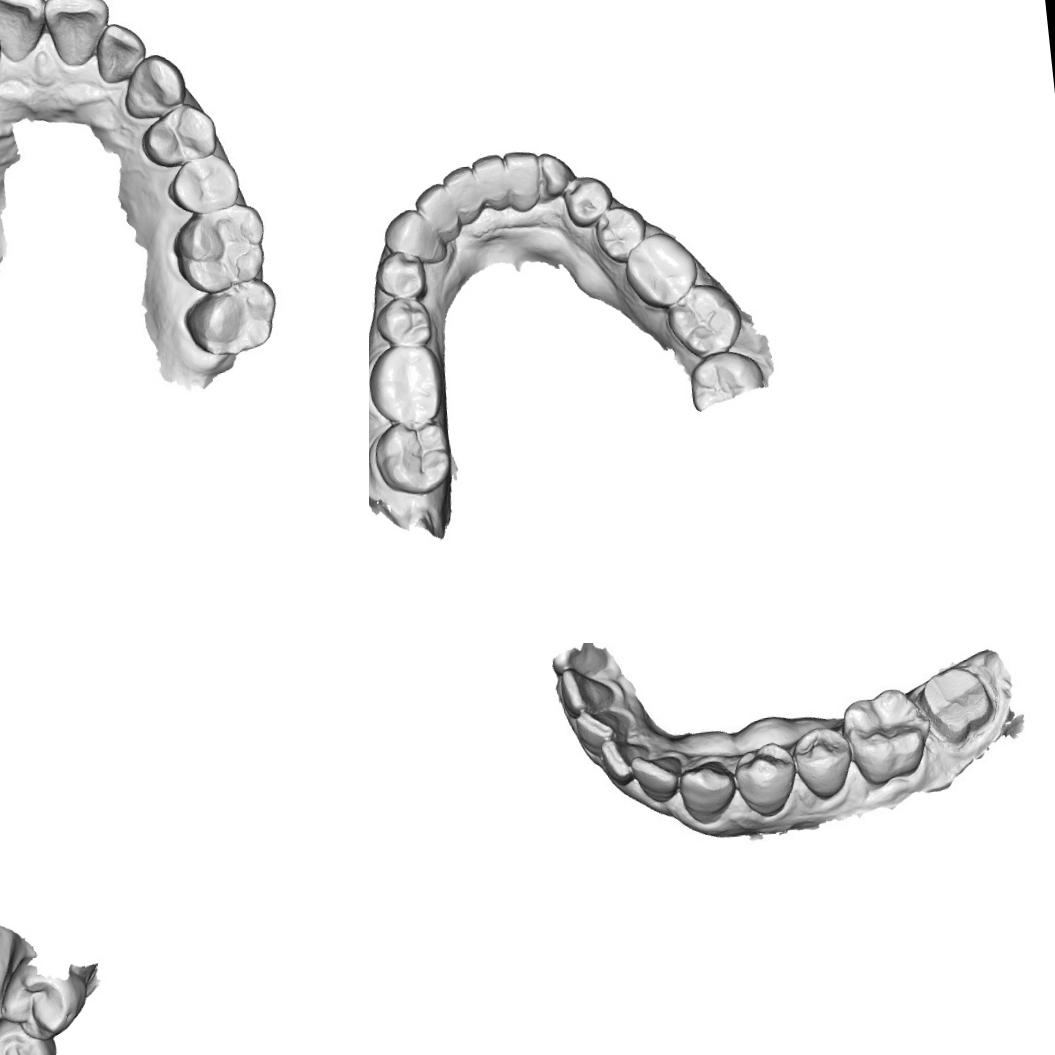canine: (119, 50, 189, 121), (673, 757, 739, 826), (378, 204, 448, 267), (534, 149, 579, 204)
crown: (915, 659, 1001, 750)
incisor: (43, 0, 115, 71), (92, 18, 150, 86), (0, 0, 50, 67), (412, 181, 463, 246), (439, 158, 485, 229), (631, 751, 686, 808), (470, 149, 514, 218), (561, 666, 618, 718), (501, 148, 543, 215), (600, 736, 650, 790), (570, 708, 626, 753)
molar: (167, 200, 272, 298), (840, 687, 932, 790), (182, 276, 282, 361), (369, 339, 450, 434), (370, 416, 456, 500), (620, 227, 702, 313), (663, 278, 746, 362)
premolar: (0, 960, 88, 1045), (138, 99, 222, 171), (729, 738, 799, 820), (162, 150, 244, 218), (790, 721, 856, 805), (372, 293, 436, 353), (591, 203, 651, 266), (371, 246, 430, 304), (560, 172, 617, 232), (0, 1013, 58, 1055)
